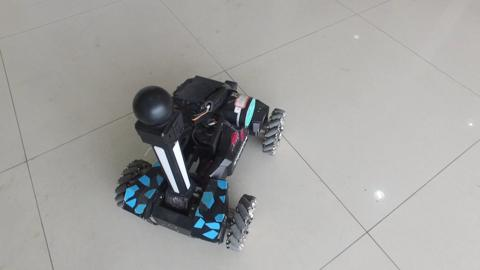chariot: (111, 71, 271, 246)
